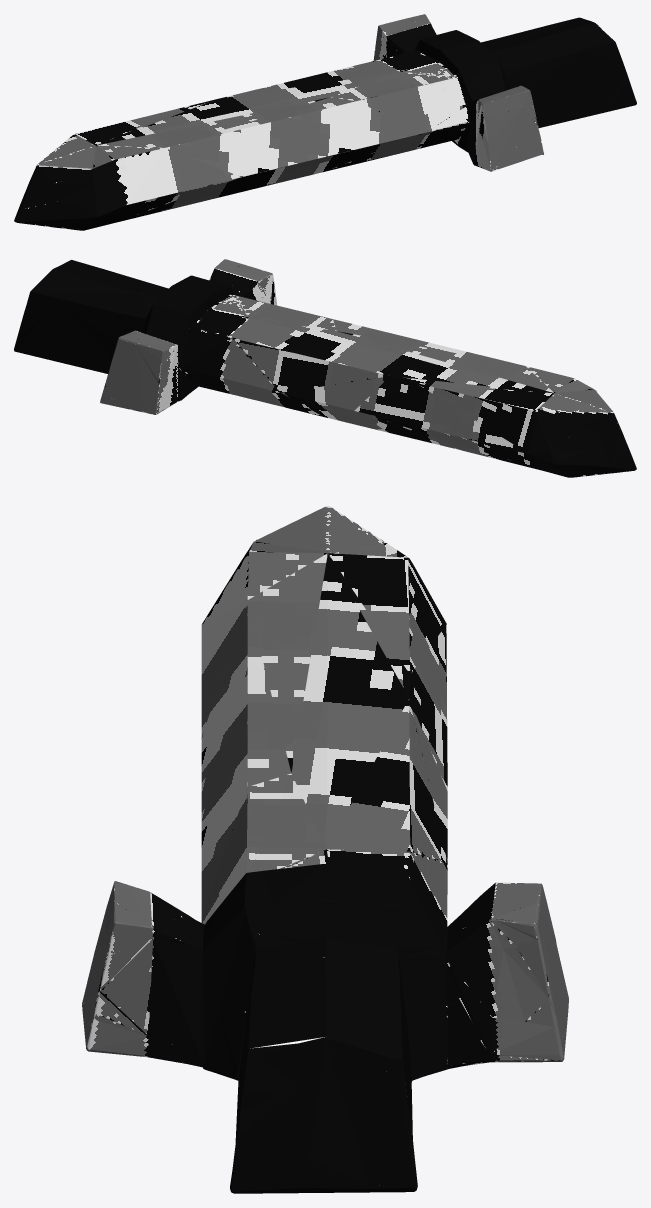
3 views of the same model, one above another, from view 1: azimuth 30°, elevation 25°; view 2: azimuth 150°, elevation 25°; view 3: azimuth 270°, elevation 25° (orthographic). The views are drawn at different scales.
Visible parts, largest first — view 1: OBJ003; view 2: OBJ003; view 3: OBJ003.
Part boxes in pixels (x1=…): OBJ003: x1=14, y1=14, x2=636, y2=230; OBJ003: x1=14, y1=259, x2=636, y2=477; OBJ003: x1=82, y1=506, x2=568, y2=1193.
Bounding box in the file's own units: 0.3454 × 0.0451 × 0.1218.
1 material, 1 textured.
